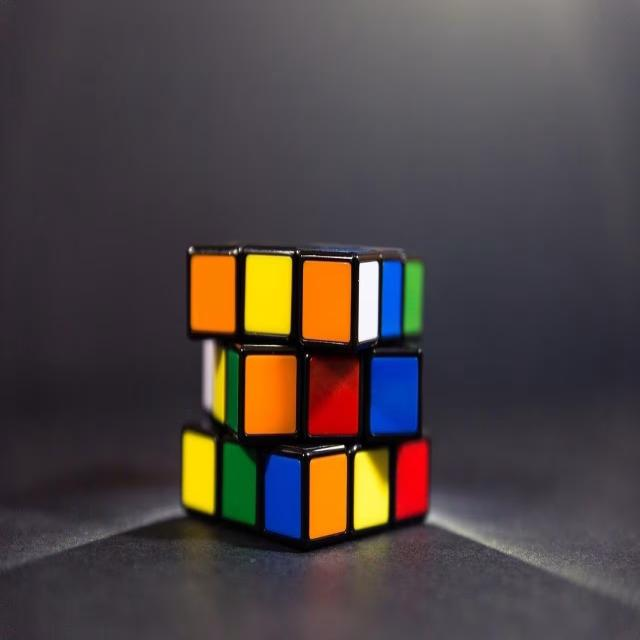Cubo-No-resuelto: (180, 245, 431, 550)
